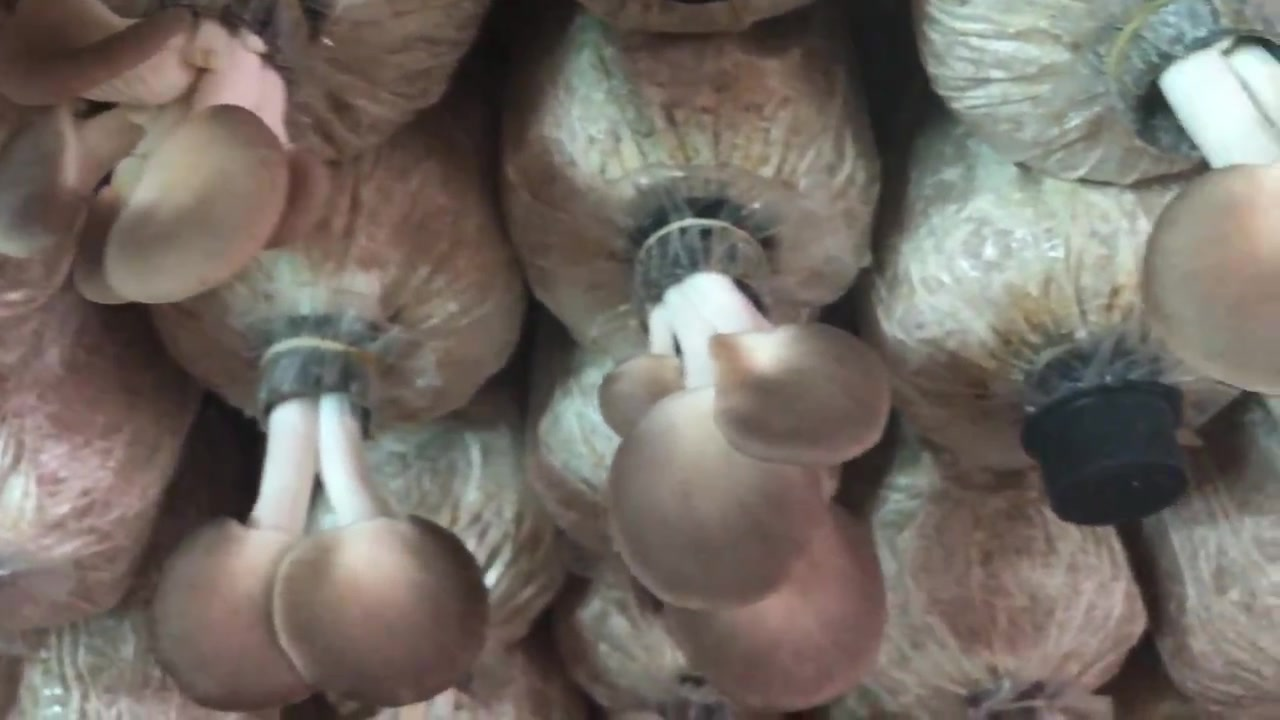nam: (600, 223, 888, 712), (148, 330, 488, 713), (1, 1, 320, 302), (1114, 1, 1278, 397)
